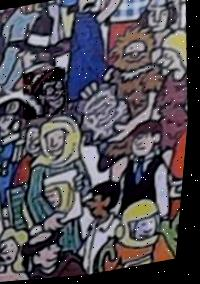waldo: (21, 66, 72, 121)
